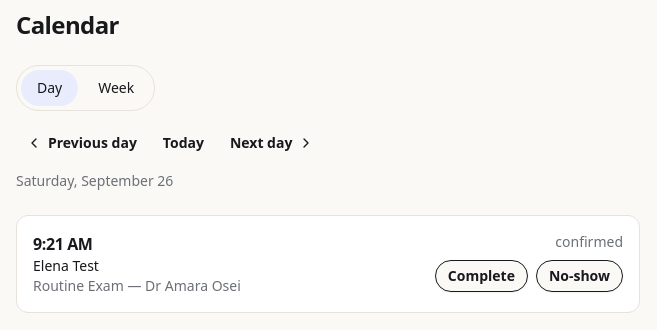
Test: closing an appointment out › Complete needs no confirmation, and the row reflects it
Expected: the text "Elena Test" is shown, [33,256,99,275]
Click the button "Complete" at (481, 276), box [435,260,528,292]
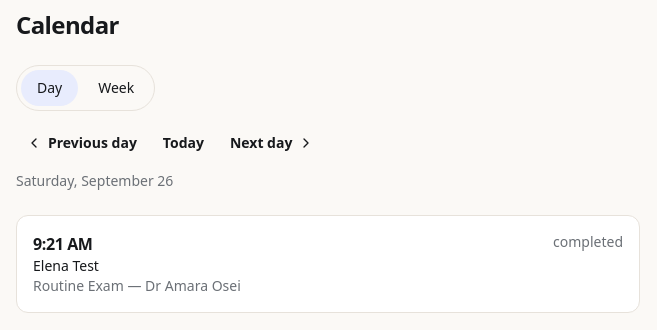
Expected: the text "completed" is shown, [553,232,623,252]
